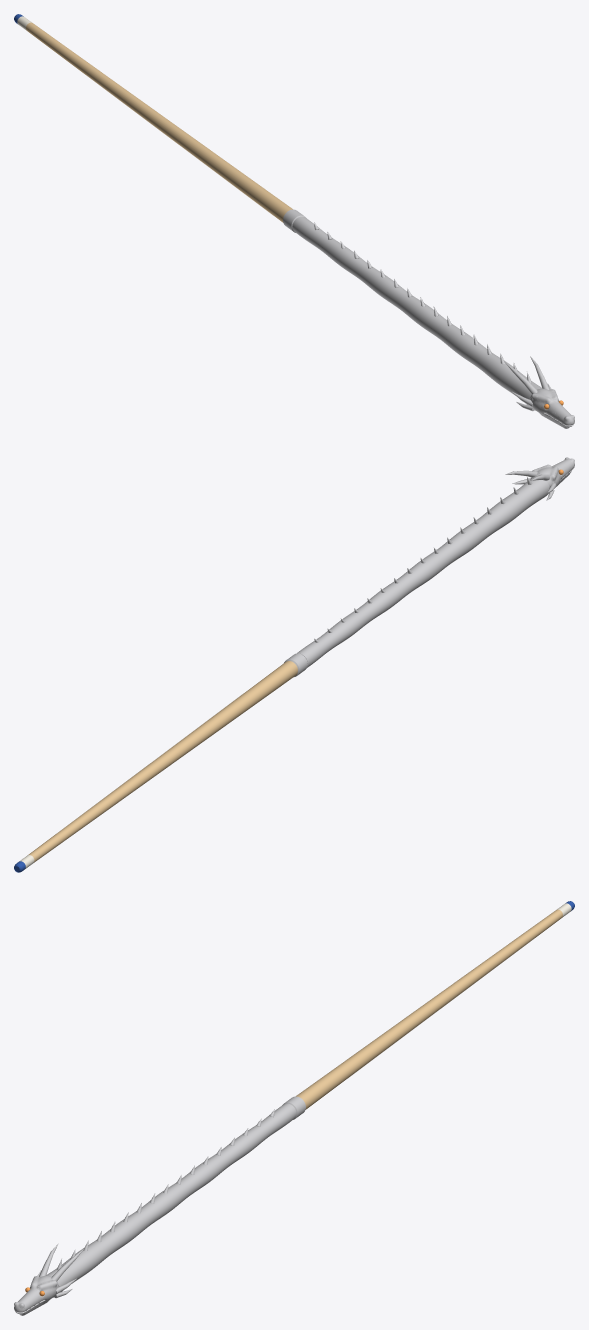
Rendered from cue_dragon.glb.
The picture shows the model from 3 angles, top to bottom: view 1: azimuth 30°, elevation 25°; view 2: azimuth 150°, elevation 25°; view 3: azimuth 330°, elevation 25°; orthographic projection.
Visible parts, largest first — view 1: scales, shaft, horn, head; view 2: scales, shaft, horn, head; view 3: scales, shaft, horn, head.
Part boxes in pixels (x1,y1,x2,y2): scales: (292, 216, 542, 410); shaft: (26, 22, 292, 222); horn: (283, 209, 563, 425); head: (530, 388, 574, 428); scales: (297, 476, 549, 667); shaft: (28, 661, 297, 862); horn: (284, 470, 571, 676); head: (531, 457, 574, 493); scales: (46, 1103, 296, 1297); shaft: (296, 909, 562, 1109); horn: (25, 1096, 305, 1312); head: (14, 1275, 58, 1315).
Size of the model in its own units: 0.0546 by 0.0533 by 1.46.
